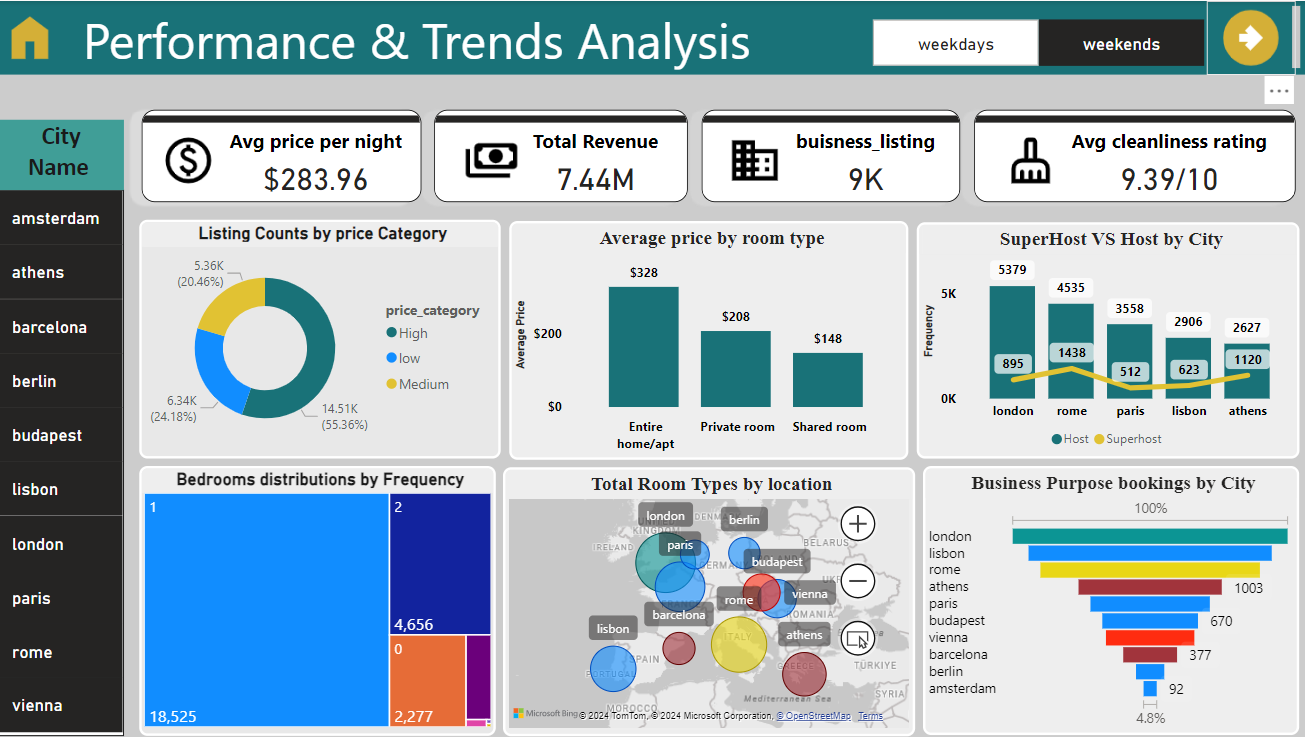

Layout of this report page (visuals, bound fields, positions):
{"tool":"powerbi","page":{"name":"Performance & Trends","canvas":[1280,720],"ordinal":1},"visuals":[{"type":"textbox","box":[-1.2,0,1280.3,72.1],"z":0},{"type":"map","title":"Total Room Types by location","fields":{"Category":["airbnb_eu.City"],"Size":["CountNonNull(airbnb_eu.City)"]},"box":[494,456.1,403.5,262.9],"z":1000},{"type":"cardVisual","title":"Average price per night","fields":{"Data":["airbnb_eu.Avg_price_per_night"]},"box":[140.6,106.4,273.9,90.5],"z":2000},{"type":"cardVisual","title":"Average price per night","fields":{"Data":["airbnb_eu.Total_RealSum"]},"box":[426.8,106.4,248.2,90.5],"z":3000},{"type":"treemap","title":"Bedrooms distributions by Frequency","fields":{"Group":["airbnb_eu.bedrooms"],"Values":["CountNonNull(airbnb_eu.bedrooms)"]},"box":[138.2,454.9,348.5,264.1],"z":4000},{"type":"cardVisual","title":"Average cleanliness rating","fields":{"Data":["airbnb_eu.Avg_cleanliness_rating"]},"box":[955,106.4,314.3,90.5],"z":5000},{"type":"cardVisual","title":"Number of listing business ","fields":{"Data":["airbnb_eu.buisness_listing"]},"box":[688.5,106.4,253.1,90.5],"z":6000},{"type":"columnChart","title":"Average price by room type","fields":{"Category":["airbnb_eu.room_type"],"Y":["Avg(airbnb_eu.realSum)"]},"box":[500.1,215.2,390.1,233.6],"z":7000},{"type":"lineClusteredColumnComboChart","title":" SuperHost VS Host by City ","fields":{"Category":["airbnb_eu.City"],"Y":["CountNonNull(airbnb_eu.host_is_superhost)"],"Y2":["airbnb_eu.Superhost"]},"box":[898.8,216.4,374.2,231.1],"z":8000},{"type":"advancedSlicerVisual","title":"Select city","fields":{"Values":["airbnb_eu.City"]},"box":[0,185.2,127.2,535.1],"z":9000,"group":"g1"},{"type":"funnel","title":" Business Purpose bookings by City","fields":{"Category":["airbnb_eu.City"],"Y":["Sum(airbnb_eu.business_listing)"]},"box":[904.9,454.9,368.1,262.9],"z":9000},{"type":"image","box":[0,4.9,62.4,62.4],"z":10000},{"type":"advancedSlicerVisual","title":"Select ","fields":{"Values":["airbnb_eu.day_flag"]},"box":[851.1,13.5,335.1,55],"z":11000},{"type":"textbox","box":[0,116.2,127.2,69],"z":12000,"group":"g1"},{"type":"shape","box":[1209.4,17.1,34.2,34.2],"z":12000},{"type":"image","box":[1182.5,0,86.8,72.1],"z":13000},{"type":"donutChart","title":"Listing Counts by price Category","fields":{"Y":["CountNonNull(airbnb_masai airbnb_eu.realSum)"],"Category":["airbnb_masai airbnb_eu.price_category"]},"box":[138.2,214,353.4,233.6],"z":15000},{"type":"group","id":"g1","title":"Group 1","box":[0,116.2,127.2,604.1],"z":15001}]}

Visuals, with their boxes in screenshot pixels (x1, y1, x2, y2), scaled from the page's 1280x720 canvas onto the 1305x737 screenshot:
textbox: crop(0, 0, 1304, 74)
"Total Room Types by location" map: crop(504, 467, 915, 736)
"Average price per night" cardVisual: crop(143, 109, 423, 202)
"Average price per night" cardVisual: crop(435, 109, 688, 202)
"Bedrooms distributions by Frequency" treemap: crop(141, 466, 496, 736)
"Average cleanliness rating" cardVisual: crop(974, 109, 1294, 202)
"Number of listing business " cardVisual: crop(702, 109, 960, 202)
"Average price by room type" columnChart: crop(510, 220, 908, 459)
" SuperHost VS Host by City " lineClusteredColumnComboChart: crop(916, 222, 1298, 458)
"Select city" advancedSlicerVisual: crop(0, 190, 130, 736)
" Business Purpose bookings by City" funnel: crop(923, 466, 1298, 735)
image: crop(0, 5, 64, 69)
"Select " advancedSlicerVisual: crop(868, 14, 1209, 70)
textbox: crop(0, 119, 130, 190)
shape: crop(1233, 18, 1268, 53)
image: crop(1206, 0, 1294, 74)
"Listing Counts by price Category" donutChart: crop(141, 219, 501, 458)
"Group 1" group: crop(0, 119, 130, 736)
